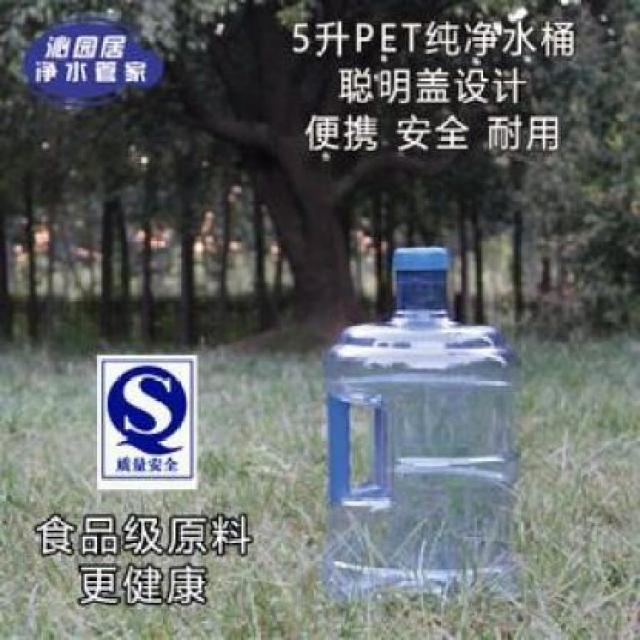coolerbottle: (314, 242, 525, 608)
